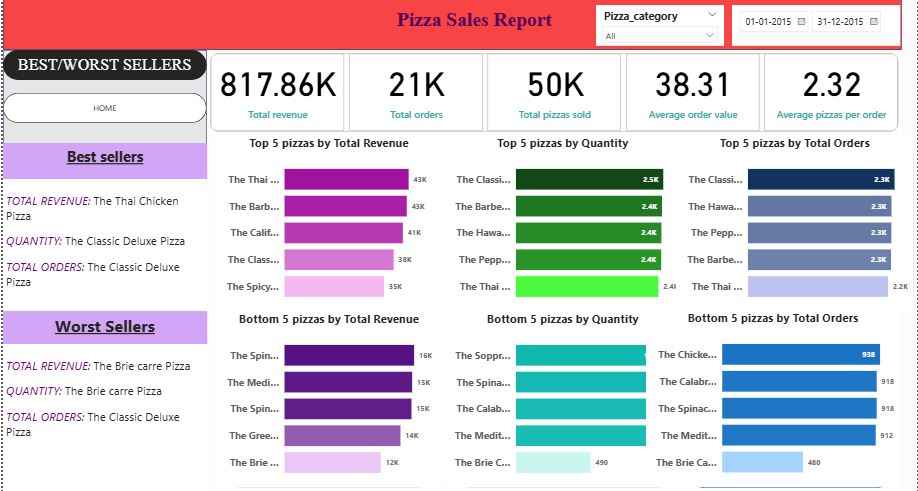

This screenshot's page, from the dashboard's own definition file:
{"tool":"powerbi","page":{"name":"BEST/WORST SELLERS","canvas":[1500,820],"ordinal":1},"visuals":[{"type":"cardVisual","fields":{"Data":["pizza_sales.Total revenue","pizza_sales.Total orders","pizza_sales.Total pizzas sold","pizza_sales.average order value","pizza_sales.Average pizzas per order"]},"box":[334.6,86.9,1139.8,139.4],"z":0},{"type":"shape","title":"pizza sales","box":[0,0,1474.4,86.9],"z":1000},{"type":"shape","box":[348.4,226.4,374,289.4],"z":2000},{"type":"textbox","box":[631.4,13.1,283.7,54.1],"z":3000},{"type":"shape","box":[0,86.9,334.6,733.1],"z":4000},{"type":"textbox","box":[0,239.4,334.6,59],"z":5000},{"type":"slicer","fields":{"Values":["pizza_sales.pizza_category"]},"box":[972.5,13.1,209.9,67.2],"z":6000},{"type":"slicer","fields":{"Values":["pizza_sales.order_date"]},"box":[1195.6,13.1,275.5,67.2],"z":7000},{"type":"textbox","box":[0,515,334.6,54.1],"z":8000},{"type":"textbox","box":[0,298.5,334.6,216.5],"z":9000},{"type":"textbox","box":[0,569.1,334.6,250.9],"z":10000},{"type":"shape","box":[722.4,226.4,389.8,289.4],"z":11000},{"type":"shape","box":[1111.9,226.3,382.1,288.6],"z":12000},{"type":"shape","box":[348.4,515.7,374,289.4],"z":13000},{"type":"shape","box":[722.4,515.7,389.8,289.4],"z":14000},{"type":"shape","box":[1111.9,515,359.2,290.3],"z":15000},{"type":"barChart","title":"Top 5 pizzas by Total Revenue","fields":{"Category":["pizza_sales.pizza_name"],"Y":["pizza_sales.Total revenue"]},"box":[348.4,226.4,374,289.4],"z":16000},{"type":"barChart","title":"Bottom 5 pizzas by Total Revenue","fields":{"Category":["pizza_sales.pizza_name"],"Y":["pizza_sales.Total revenue"]},"box":[348.4,515.7,374,289.4],"z":17000},{"type":"barChart","title":"Top 5 pizzas by Quantity","fields":{"Category":["pizza_sales.pizza_name"],"Y":["pizza_sales.Total pizzas sold"]},"box":[722.4,226.4,389.8,289.4],"z":18000},{"type":"barChart","title":"Bottom 5 pizzas by Quantity","fields":{"Category":["pizza_sales.pizza_name"],"Y":["pizza_sales.Total pizzas sold"]},"box":[722.4,515.7,389.8,289.4],"z":19000},{"type":"barChart","title":"Top 5 pizzas by Total Orders","fields":{"Category":["pizza_sales.pizza_name"],"Y":["pizza_sales.Total orders"]},"box":[1104.3,226.4,389.8,289.4],"z":20000},{"type":"barChart","title":"Bottom 5 pizzas by Total Orders","fields":{"Category":["pizza_sales.pizza_name"],"Y":["pizza_sales.Total orders"]},"box":[1054.5,513.3,416.6,290.3],"z":21000},{"type":"pageNavigator","box":[0,86.9,334.6,49.2],"z":22000},{"type":"pageNavigator","box":[0,157.4,334.6,49.2],"z":23000}]}

Visuals, with their boxes in screenshot pixels (x1, y1, x2, y2), scaled from the page's 1500x820 canvas onto the 918x491 screenshot:
cardVisual - pizza_sales.Total revenue x pizza_sales.Total orders: [205,52,902,136]
"pizza sales" shape: [0,0,902,52]
shape: [213,136,442,309]
textbox: [386,8,560,40]
shape: [0,52,205,490]
textbox: [0,143,205,179]
slicer - pizza_sales.pizza_category: [595,8,724,48]
slicer - pizza_sales.order_date: [732,8,900,48]
textbox: [0,308,205,341]
textbox: [0,179,205,308]
textbox: [0,341,205,490]
shape: [442,136,681,309]
shape: [680,136,914,308]
shape: [213,309,442,482]
shape: [442,309,681,482]
shape: [680,308,900,482]
"Top 5 pizzas by Total Revenue" barChart: [213,136,442,309]
"Bottom 5 pizzas by Total Revenue" barChart: [213,309,442,482]
"Top 5 pizzas by Quantity" barChart: [442,136,681,309]
"Bottom 5 pizzas by Quantity" barChart: [442,309,681,482]
"Top 5 pizzas by Total Orders" barChart: [676,136,914,309]
"Bottom 5 pizzas by Total Orders" barChart: [645,307,900,481]
pageNavigator: [0,52,205,81]
pageNavigator: [0,94,205,124]
